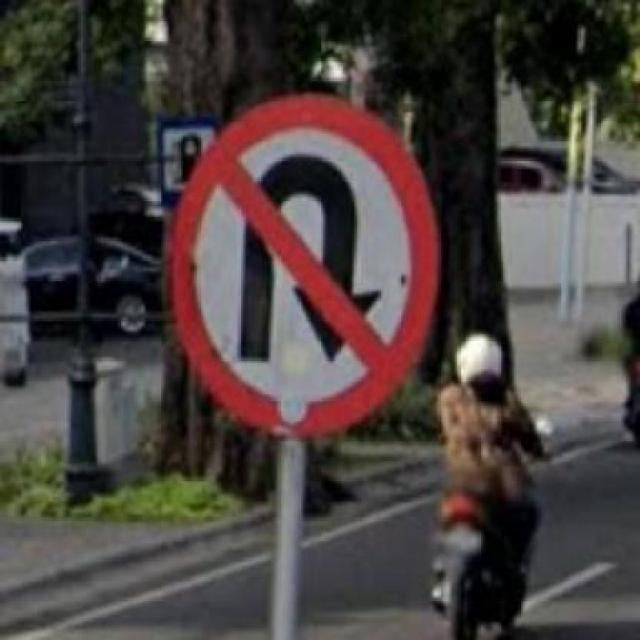u turn prohibited: (156, 87, 446, 436)
